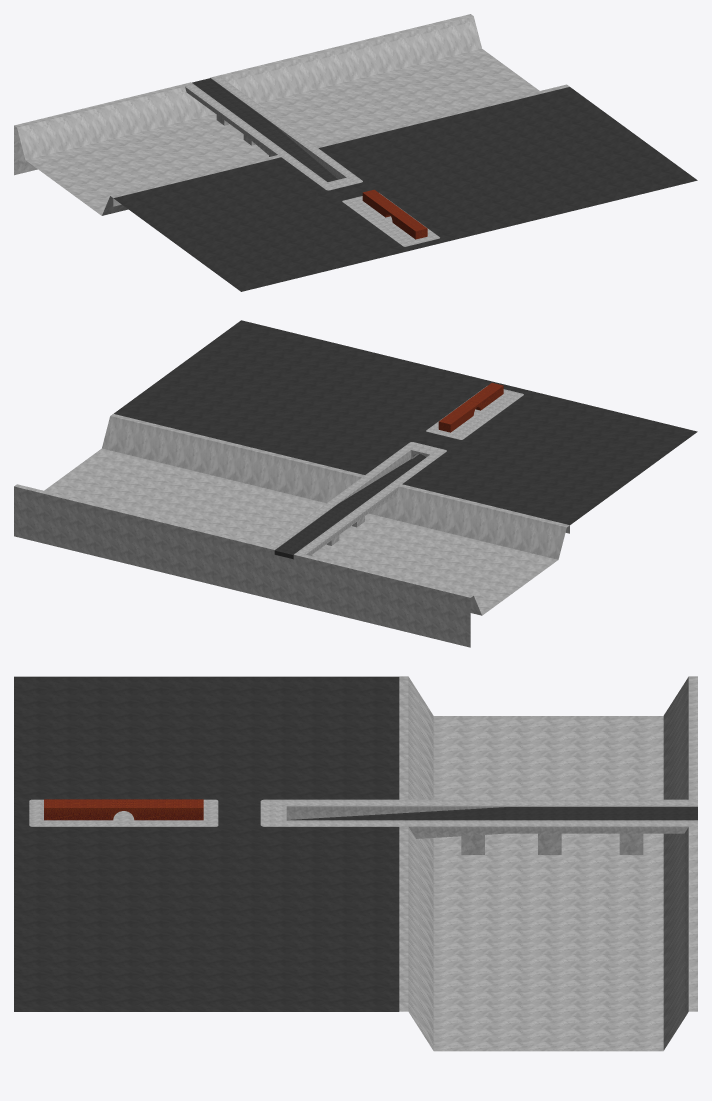
File: Map.fbx
The picture shows the model from 3 angles, top to bottom: view 1: azimuth 30°, elevation 25°; view 2: azimuth 150°, elevation 25°; view 3: azimuth 270°, elevation 25°; orthographic projection. The views are drawn at different scales.
Parts seen in each view (by area): view 1: Map; view 2: Map; view 3: Map.
Boxes of the visible parts, <box> form: Map: <box>14,14,697,291</box>; Map: <box>14,320,697,647</box>; Map: <box>14,676,697,1051</box>.
Size of what is drawn, in the model's own units: 75842 by 9213 by 65368.
3 materials, 3 textured.
